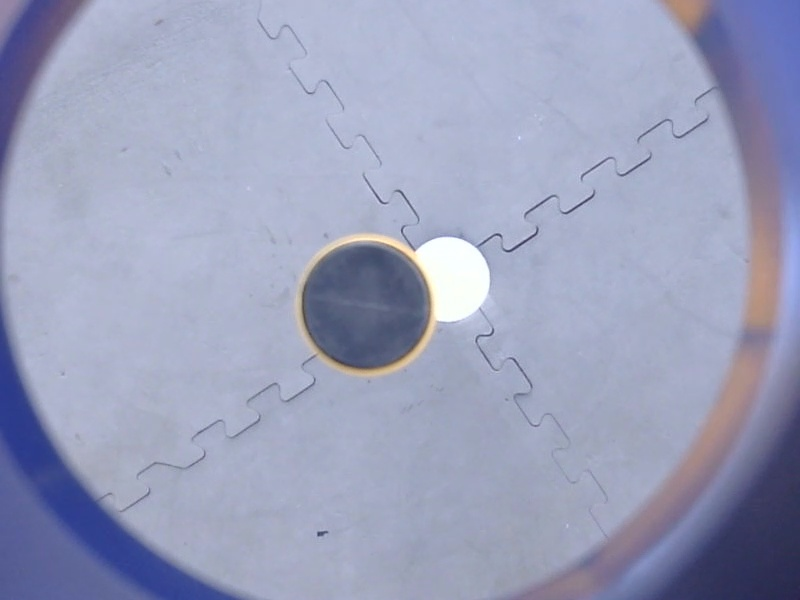tip: (288, 229, 442, 383)
